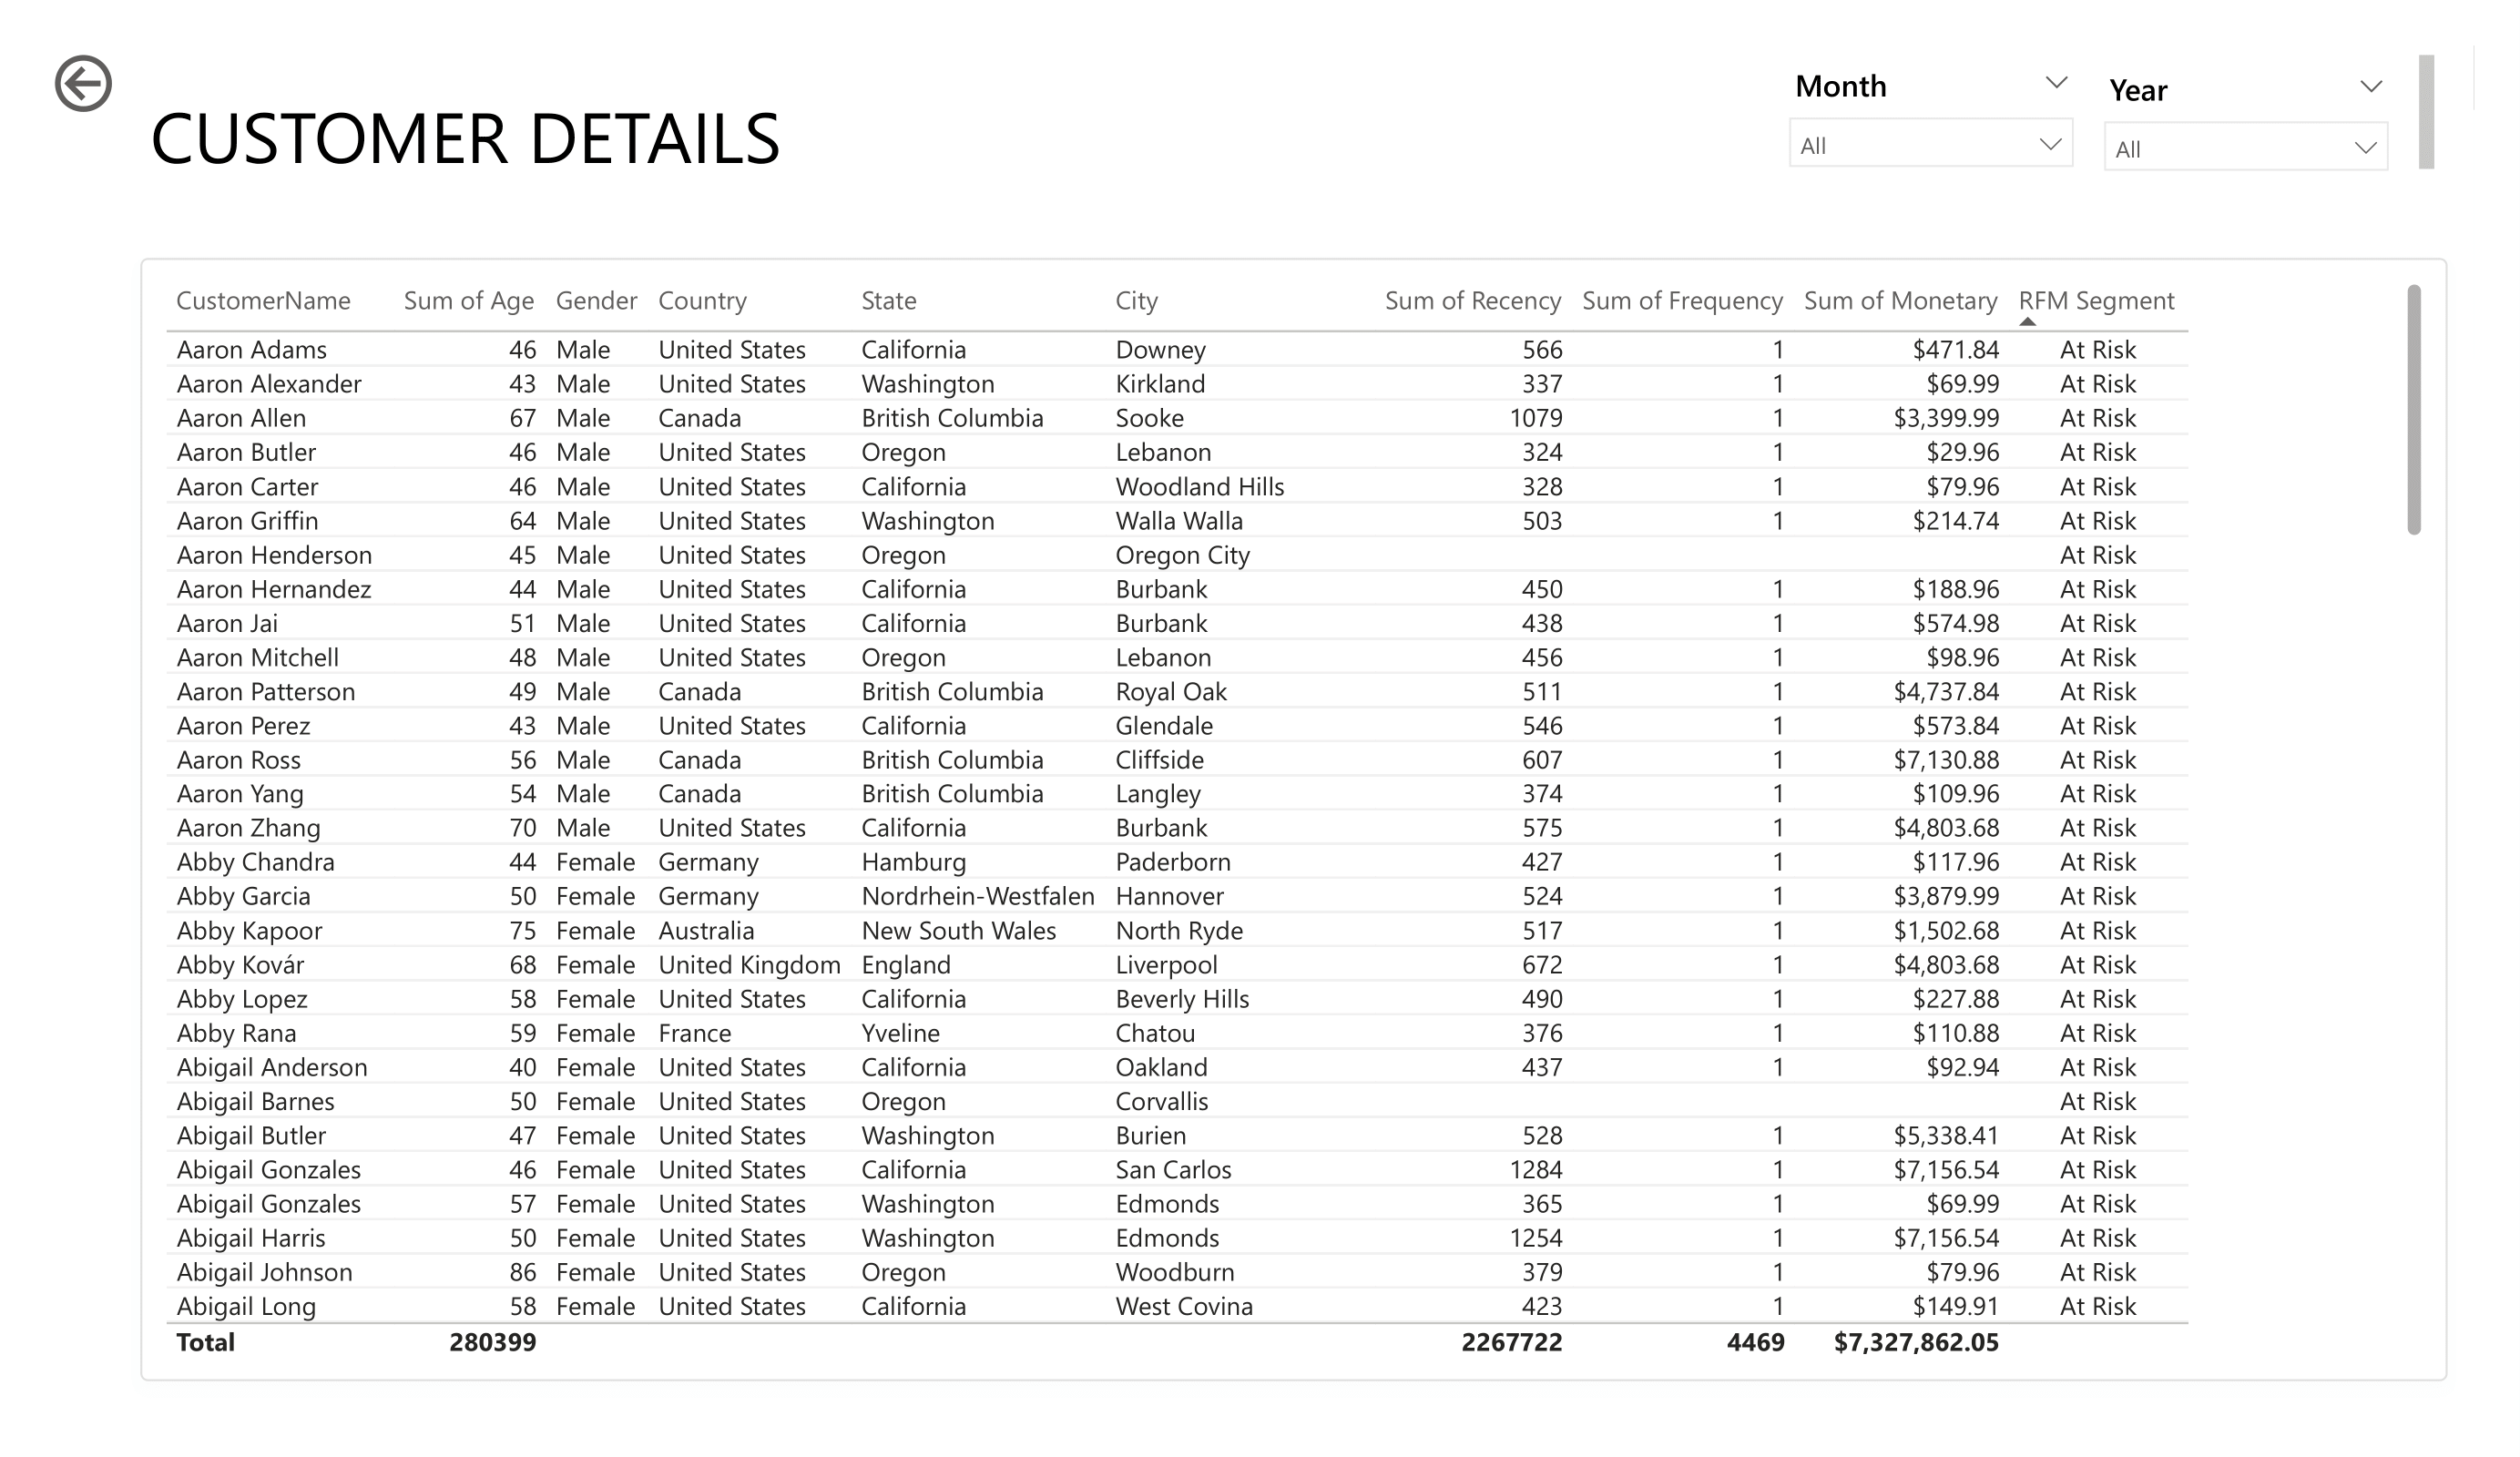

The dashboard page shown, as its layout file describes it:
{"tool":"powerbi","page":{"name":"Customer Details","canvas":[1280,720],"ordinal":2},"visuals":[{"type":"textbox","box":[50,0,1214,94],"z":0},{"type":"tableEx","fields":{"Values":["Customer_dim.CustomerName","Sum(Customer_dim.Age)","Customer_dim.Gender","Customer_dim.Country Hierarchy.Country","Customer_dim.Country Hierarchy.State","Customer_dim.Country Hierarchy.City","Sum(RFM_Table.Recency)","Sum(RFM_Table.Frequency)","Sum(RFM_Table.Monetary)","RFM_Table.RFM Segment"]},"box":[50,112,1216,592],"z":1000},{"type":"slicer","fields":{"Values":["Date_dim.CalendarYear"]},"box":[1080,12,160,74],"z":2000},{"type":"actionButton","box":[0,0,100,40],"z":3000}]}

Visuals, with their boxes on the page's 1280x720 design canvas (x1, y1, x2, y2). These are canvas units, not pixel positions in the 2520x1457 screenshot, which may show the page scaled, cropped or inside an application window:
textbox: (50,0,1264,94)
tableEx - Customer_dim.CustomerName x Sum(Customer_dim.Age): (50,112,1266,704)
slicer - Date_dim.CalendarYear: (1080,12,1240,86)
actionButton: (0,0,100,40)
